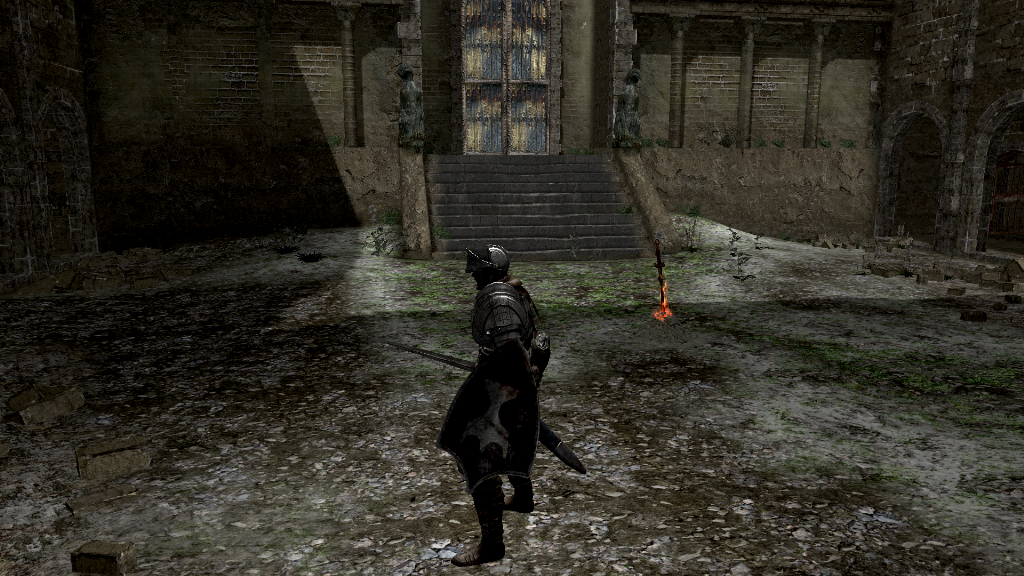bonfire: (645, 238, 685, 328)
player: (383, 243, 556, 566)
